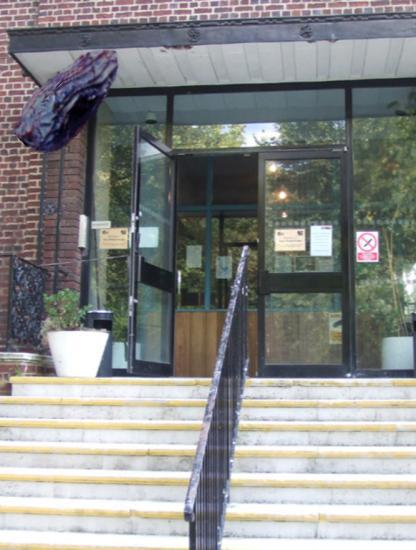Dates: (6, 34, 137, 165)
